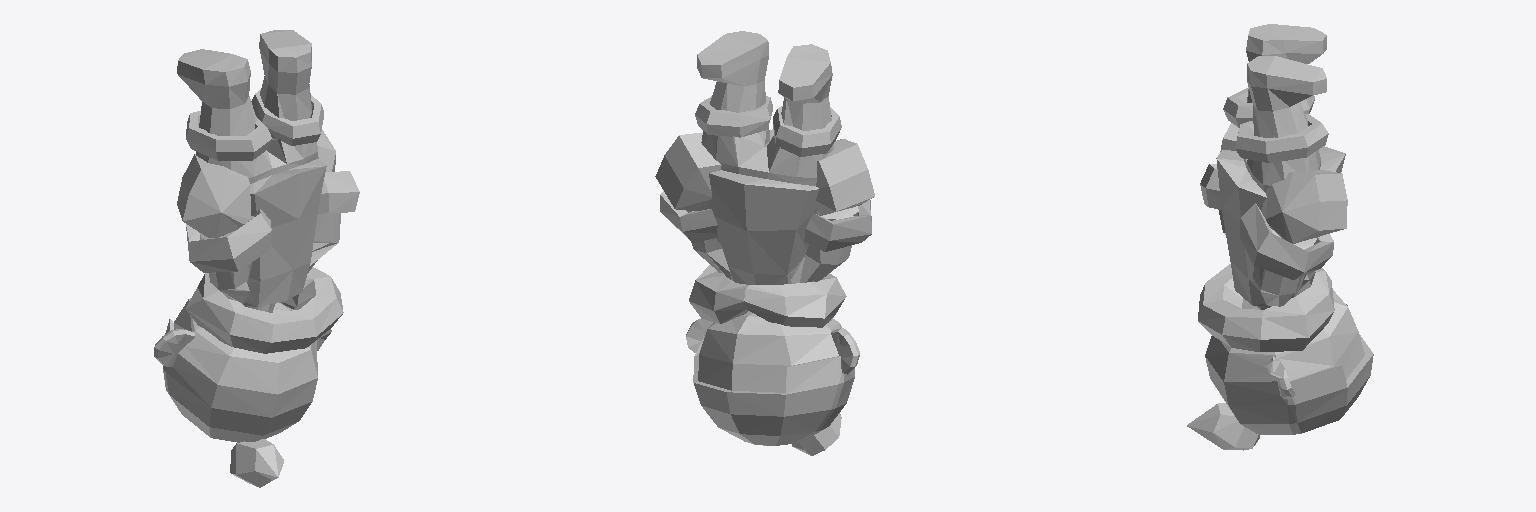
The model's file is eikastanding_000357.obj.
3 views of the same model, side by side, from view 1: azimuth 30°, elevation 25°; view 2: azimuth 150°, elevation 25°; view 3: azimuth 270°, elevation 25° (orthographic).
Parts seen in each view (by area): view 1: Cylinder; view 2: Cylinder; view 3: Cylinder.
Boxes of the visible parts, x1,y1,x2,y2 form: Cylinder: [154, 30, 359, 487]; Cylinder: [655, 31, 874, 455]; Cylinder: [1187, 24, 1373, 450].
Size of the model in its own units: 27.17 by 56.02 by 22.96.